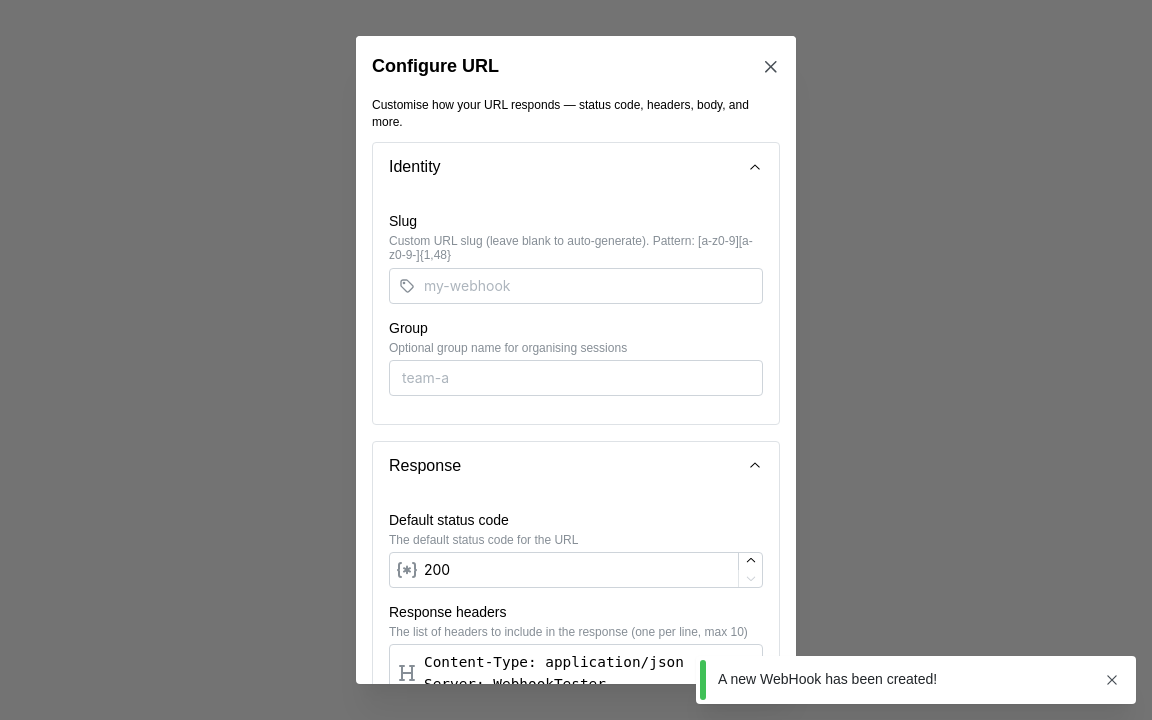
Test: NewSessionModal — new fields › server 409 is surfaced as a field-level error on the slug input
This screenshot has width=1152, height=720.
Type "taken-slug" into the field labelled "Slug" at (576, 286), box 389,268 -> 763,304
(page scrolled)
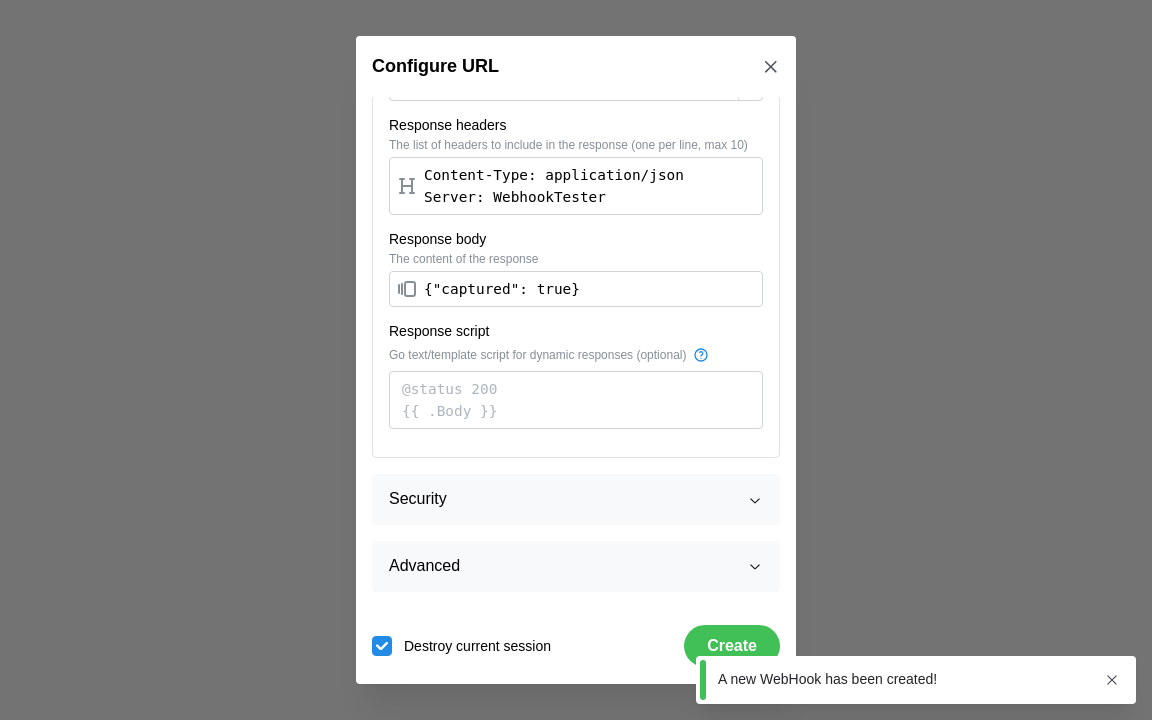
Click the button "Create" at (732, 646), box 684,625 -> 780,667
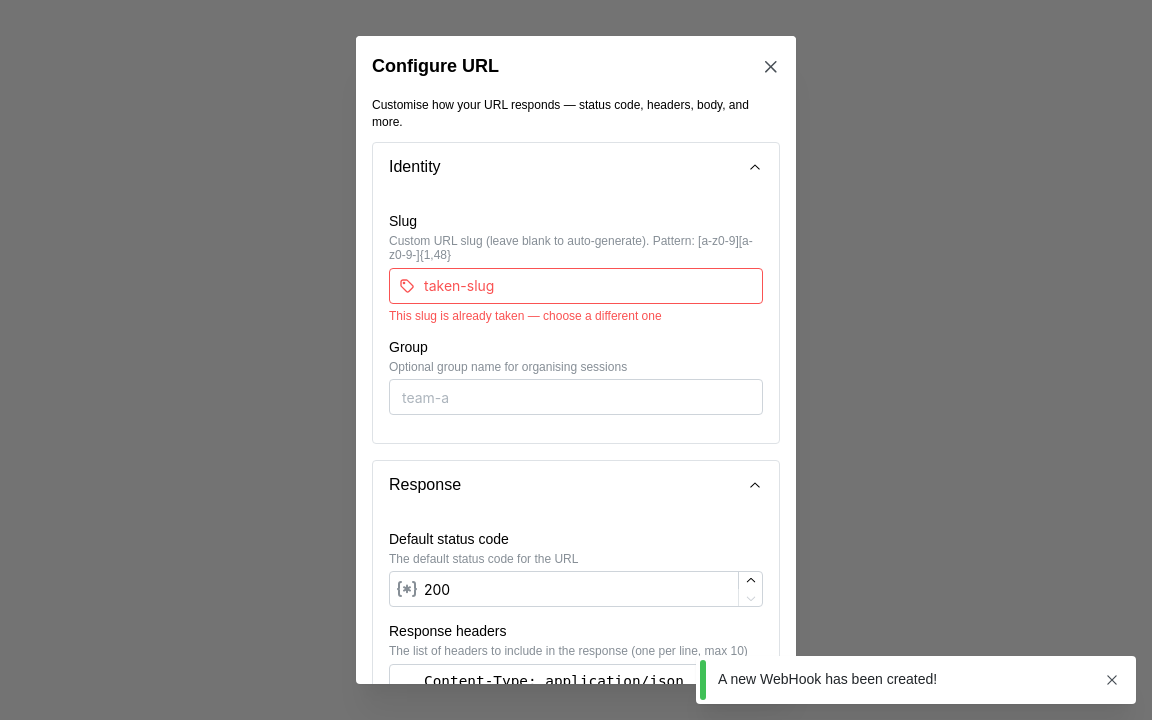
Now the text "This slug is already taken — choose a different one" is shown, box 389,309 -> 662,323
